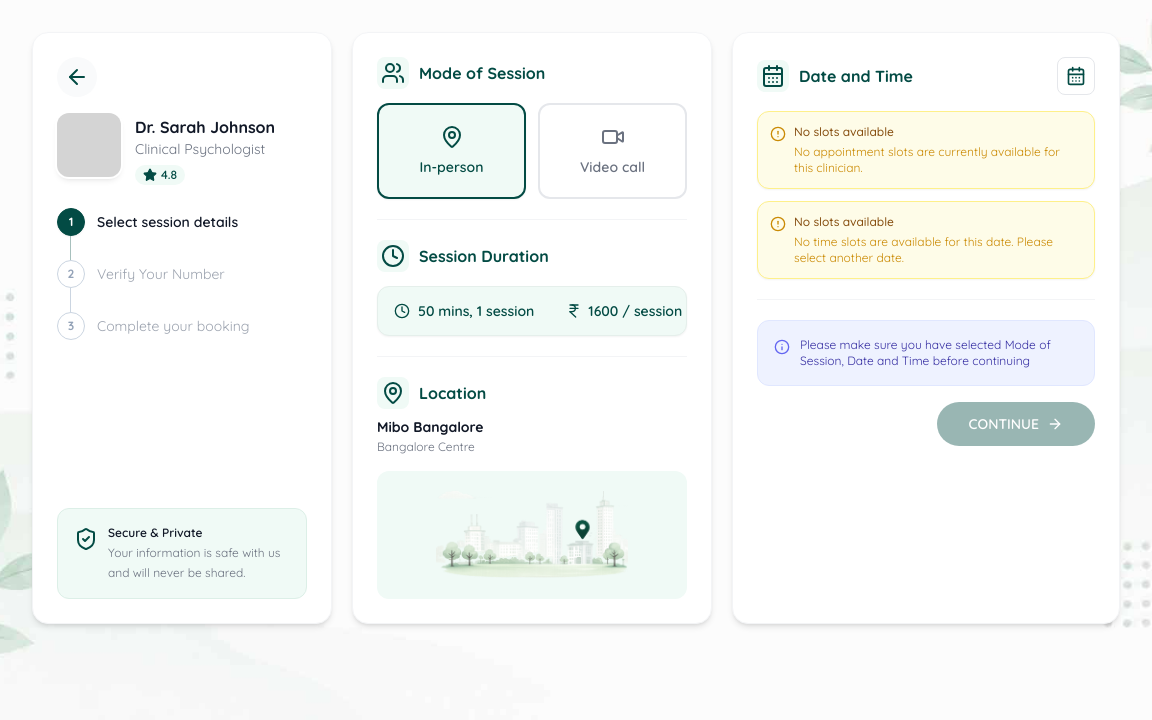
Test case: Preservation Property Tests: Non-Calendar Date Selection Behavior › PROPERTY 2.3: Preservation - Calendar month navigation continues to display correct months
Expected: the text "Dr. Sarah Johnson" is shown, [135, 115, 275, 139]
Click the button named "Open calendar": (1076, 76) [1057, 57, 1095, 95]
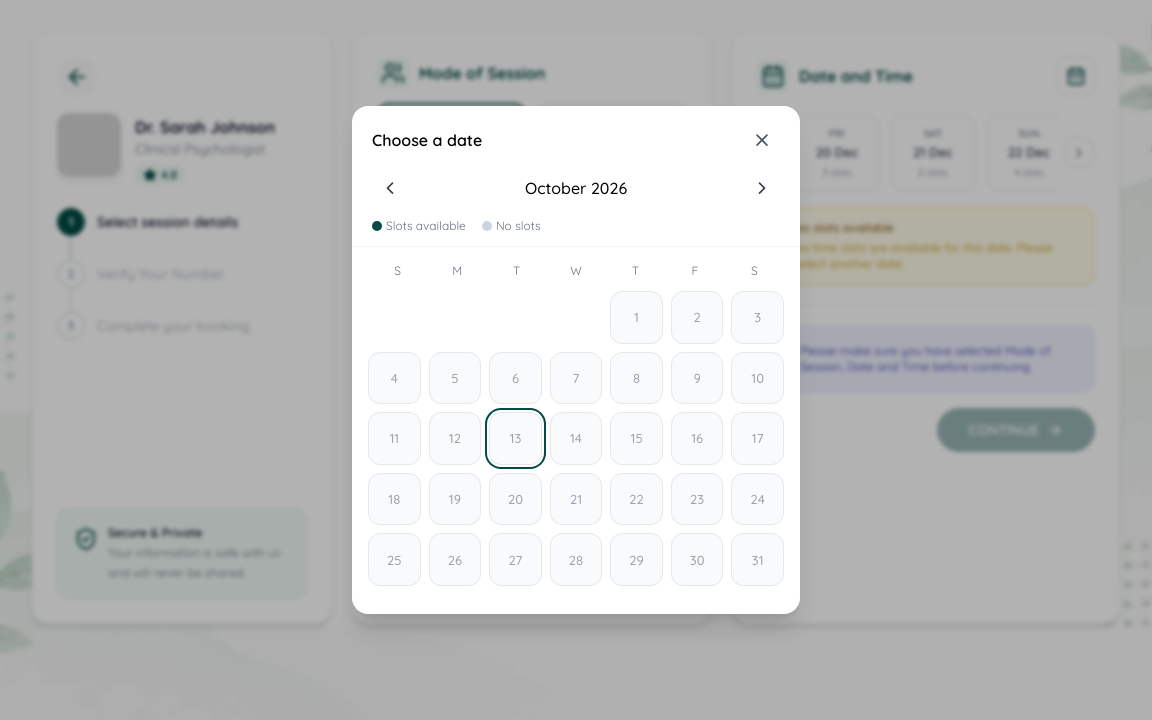
Expected: the text "Choose a date" is shown, [372, 128, 482, 152]
